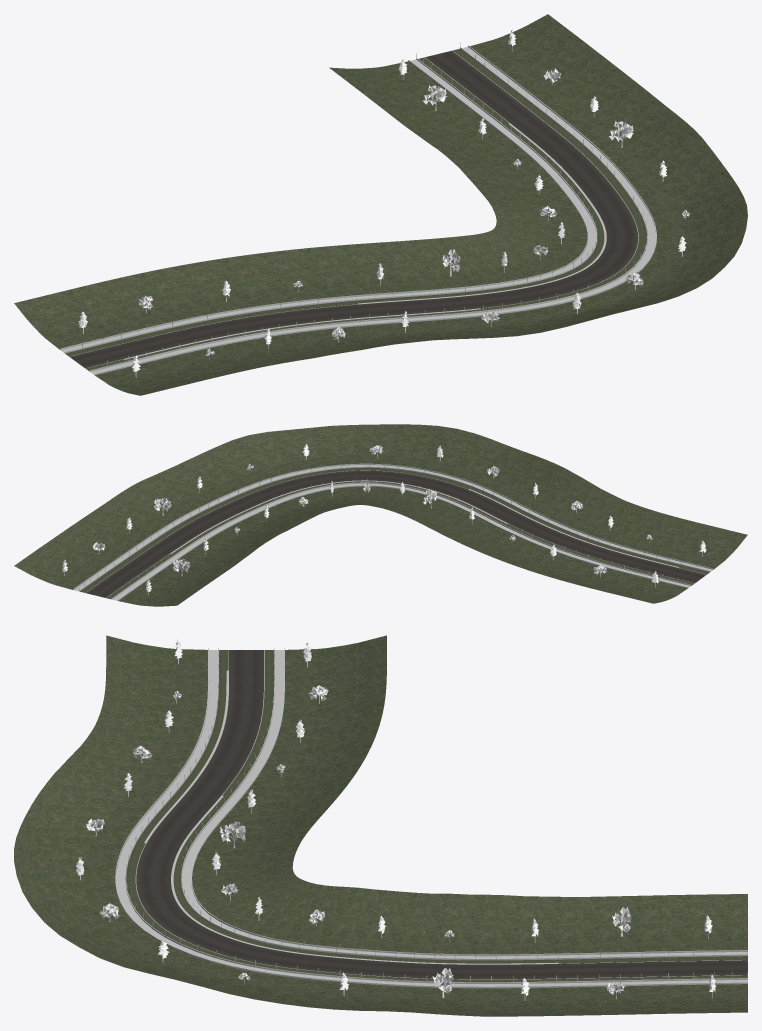
The picture shows the model from 3 angles, top to bottom: view 1: azimuth 30°, elevation 25°; view 2: azimuth 150°, elevation 25°; view 3: azimuth 270°, elevation 25°; orthographic projection. The views are drawn at different scales.
Visible parts, largest first — view 1: Grass, Road, Track, Trees; view 2: Grass, Road, Track, Trees; view 3: Grass, Road, Track, Trees.
Boxes of the visible parts, x1,y1,x2,y2 form: Grass: [14, 14, 747, 395]; Road: [70, 50, 638, 368]; Track: [60, 42, 656, 374]; Trees: [78, 29, 689, 377]; Grass: [14, 424, 747, 606]; Road: [86, 470, 706, 597]; Track: [73, 463, 713, 600]; Trees: [62, 444, 706, 595]; Grass: [14, 635, 747, 1016]; Road: [136, 650, 747, 979]; Track: [115, 648, 747, 988]; Trees: [76, 640, 716, 1000].
Size of what is drawn, in the model's own units: 44500 by 2096 by 36596.
